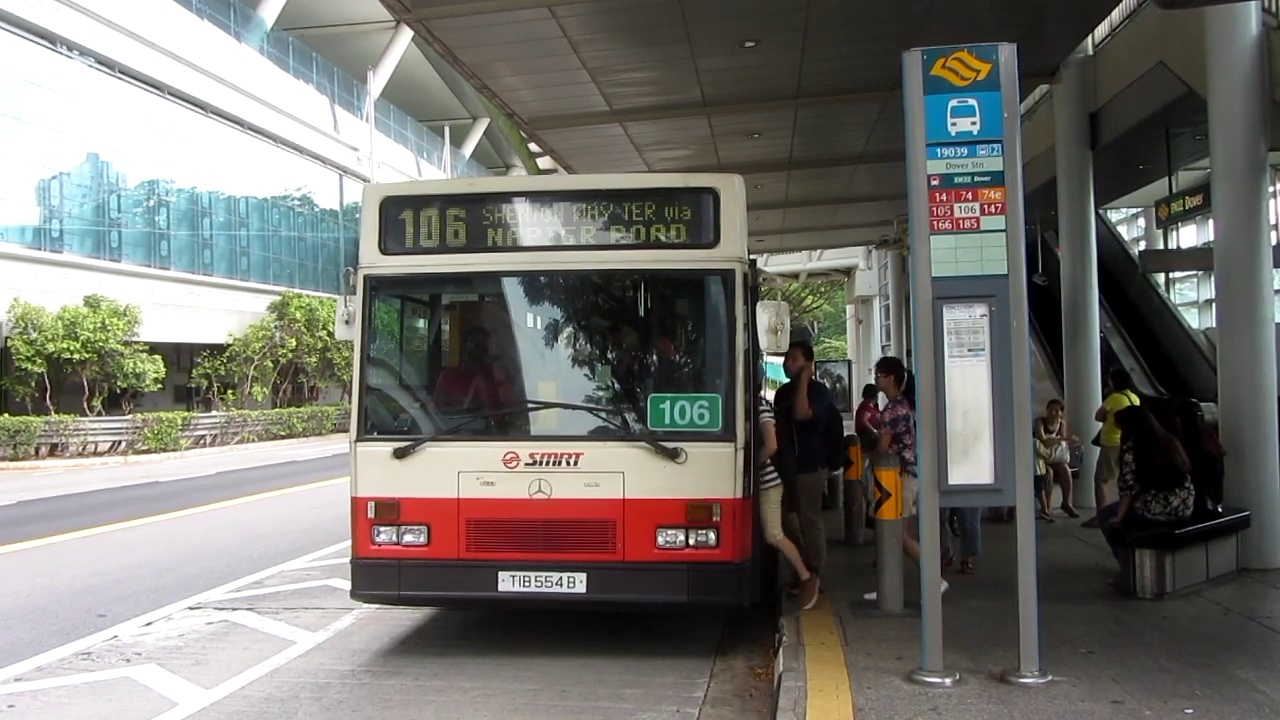bus panel: (377, 185, 724, 258)
